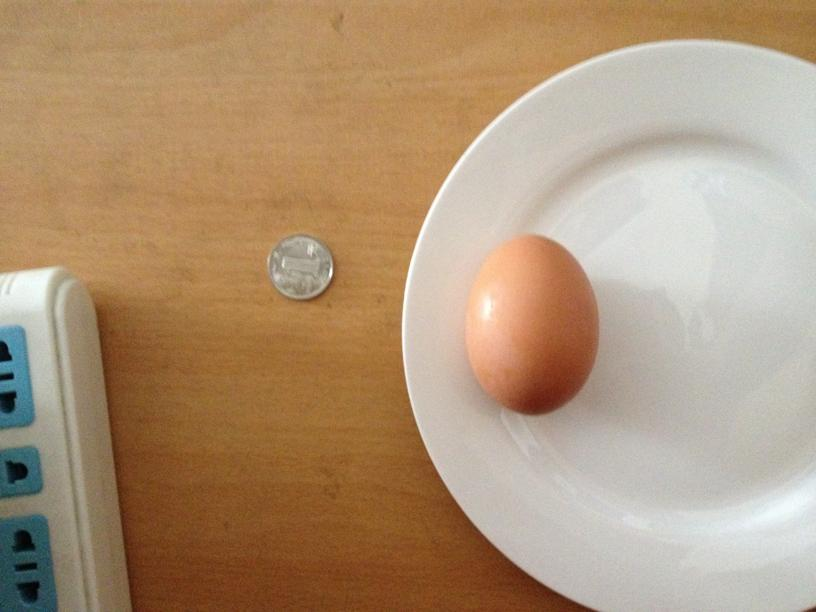coin: (267, 235, 335, 301)
egg: (462, 236, 597, 412)
